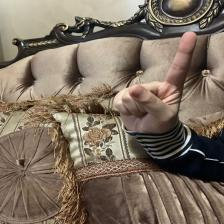one: (107, 27, 200, 147)
